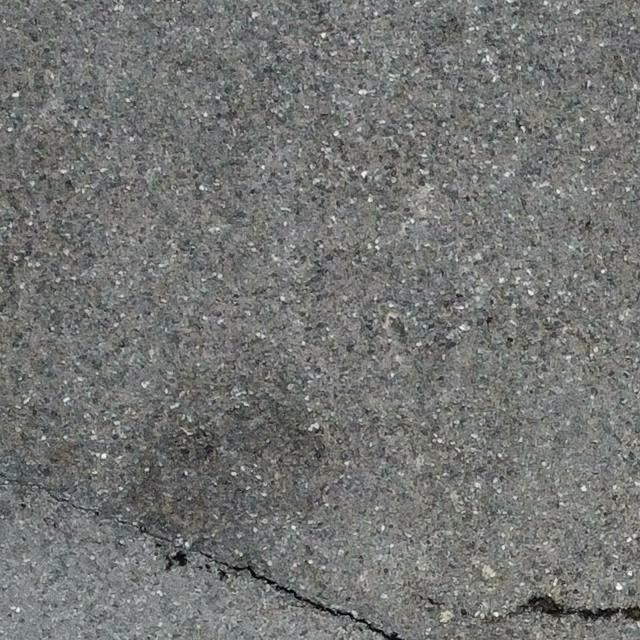TransverseCrack: (1, 475, 400, 637), (464, 590, 640, 627)
